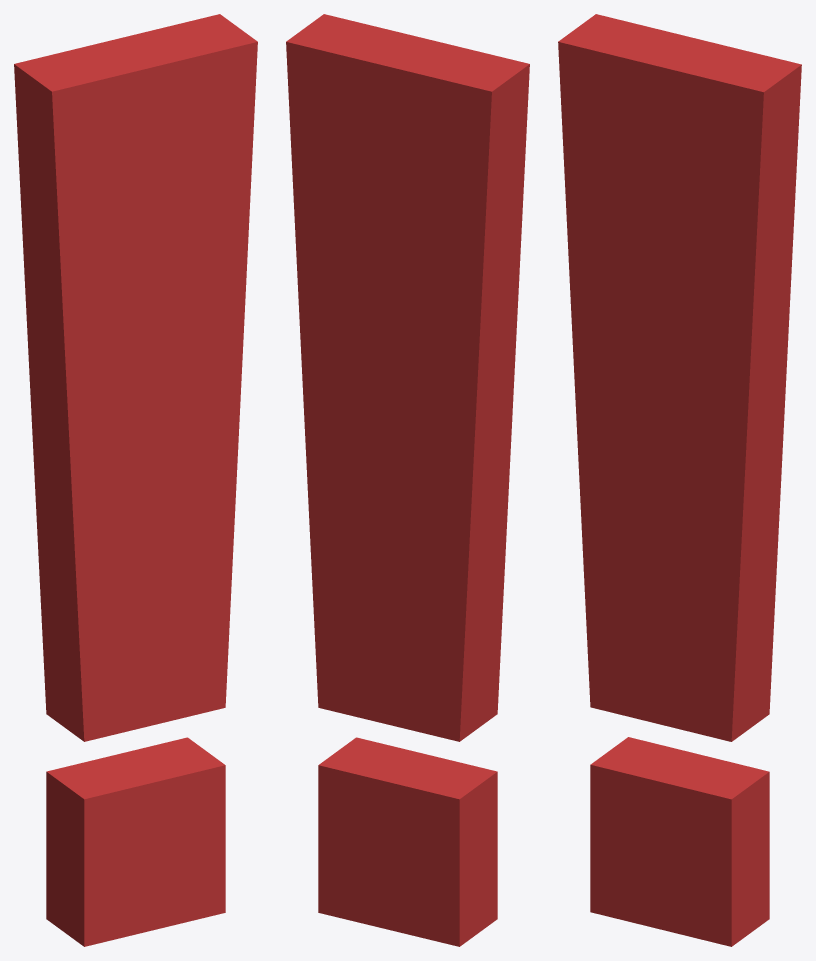
Rendered from player_found_mark.obj.
3 views of the same model, side by side, from view 1: azimuth 30°, elevation 25°; view 2: azimuth 150°, elevation 25°; view 3: azimuth 330°, elevation 25° (orthographic).
Parts seen in each view (by area): view 1: exclamation_mark; view 2: exclamation_mark; view 3: exclamation_mark.
Part boxes in pixels (bbox=[...]): exclamation_mark: bbox=[14, 14, 257, 946]; exclamation_mark: bbox=[286, 14, 529, 946]; exclamation_mark: bbox=[558, 14, 801, 946].
Bounding box in the file's own units: 0.3759 × 1.51 × 0.12.
